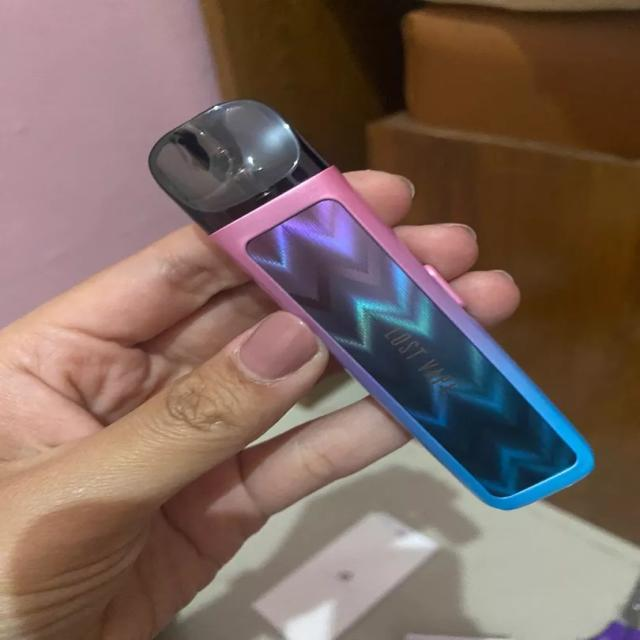Hazard: (144, 96, 599, 513)
